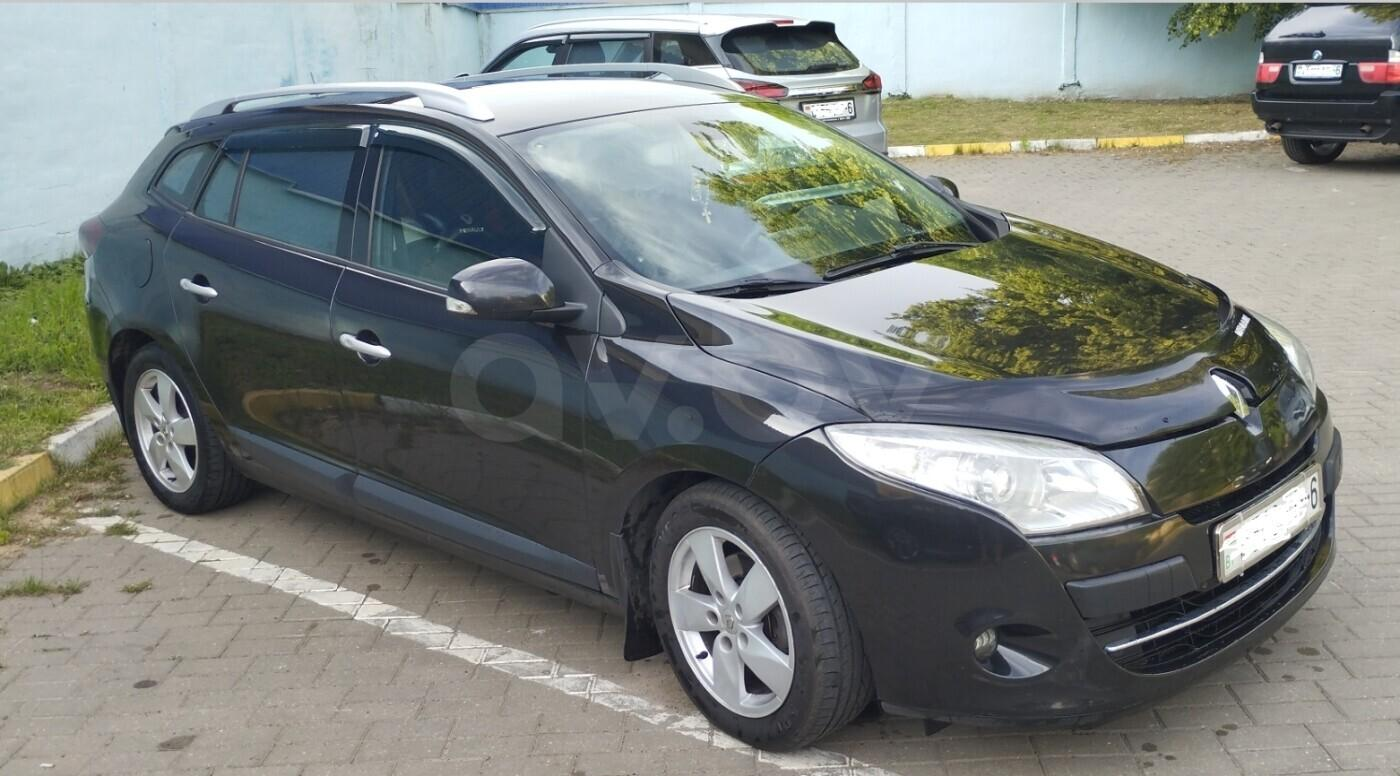Megane_2008-2014: (77, 75, 1342, 727)
